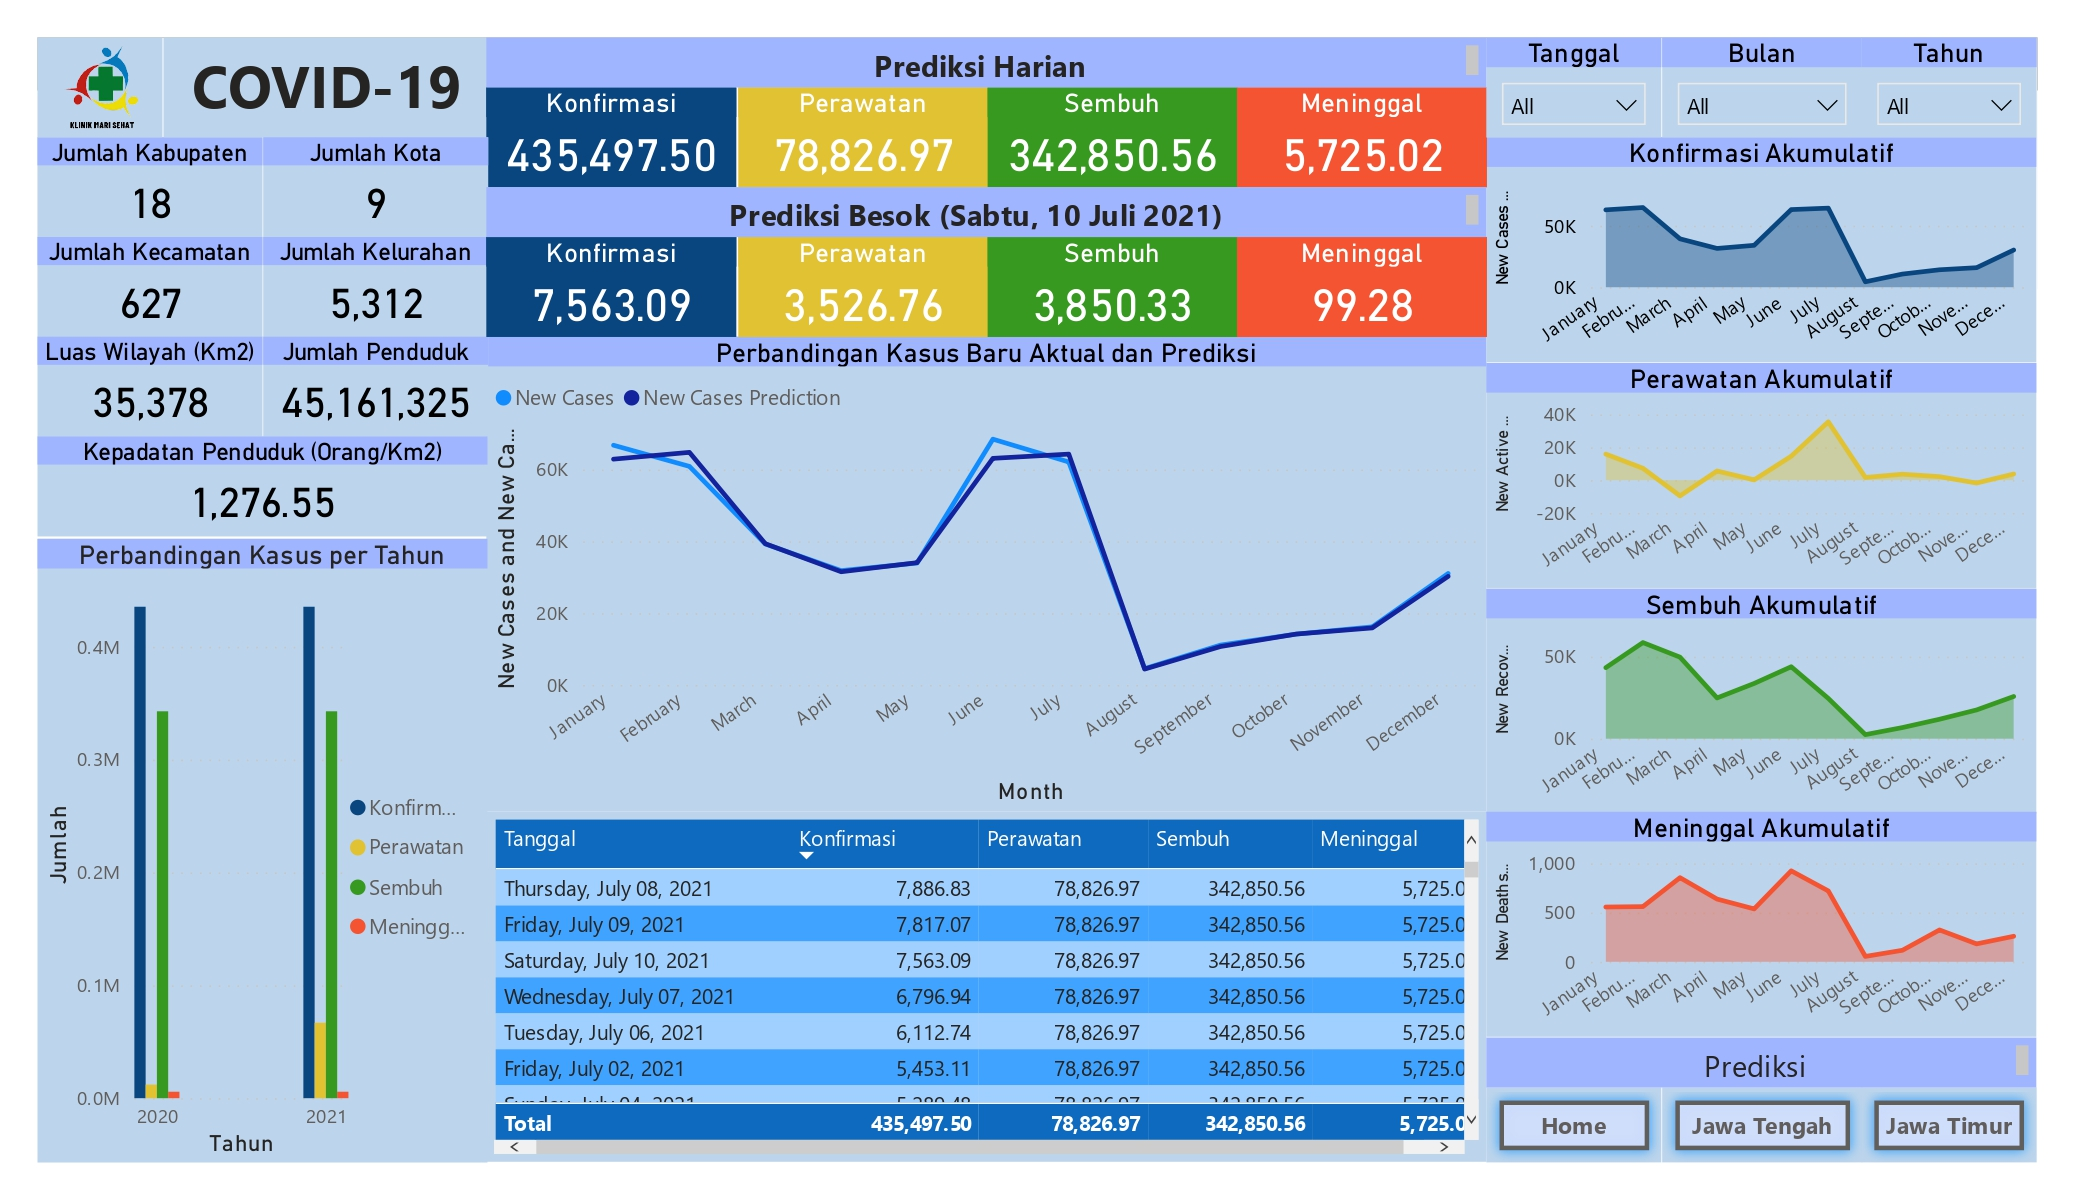

Layout of this report page (visuals, bound fields, positions):
{"tool":"powerbi","page":{"name":"Prediksi Jawa Barat","canvas":[1280,720],"ordinal":1},"visuals":[{"type":"card","title":"Jumlah Kabupaten","fields":{"Values":["Sum(KependudukanJabar.Total Regencies)"]},"box":[0,64,144,64],"z":0},{"type":"lineChart","title":"Perbandingan Kasus Baru  Aktual dan Prediksi","fields":{"Y":["Sum(NewCases_Jabar.New Cases)","Sum(NewCases_Jabar.New Cases Prediction)"],"Category":["NewCases_Jabar.Date.1.Variation.Date Hierarchy.Month"]},"box":[288,192,640,304],"z":1000},{"type":"tableEx","title":"Deaths by Countries","fields":{"Values":["NewCases.Date.1","Sum(NewCases.New Cases Prediction)","Sum(NewActiveCases.New Active Cases Prediction)","Sum(NewRecovered.New Recovered Prediction)","Sum(NewDeaths.New Deaths Prediction)"]},"box":[288,496,640,224],"z":2000},{"type":"areaChart","title":"Konfirmasi Akumulatif","fields":{"Category":["NewCases.Date.1.Variation.Date Hierarchy.Month"],"Y":["Sum(NewCases.New Cases Prediction)"]},"box":[928,64,352,144],"z":3000},{"type":"card","title":"Perawatan","fields":{"Values":["Sum(NewActiveCases.New Active Cases Prediction)"]},"box":[448,32,160,64],"z":4000},{"type":"card","title":"Sembuh","fields":{"Values":["Sum(NewRecovered.New Recovered Prediction)"]},"box":[608,32,160,64],"z":5000},{"type":"card","title":"Meninggal","fields":{"Values":["Sum(NewDeaths.New Deaths Prediction)"]},"box":[768,32,160,64],"z":6000},{"type":"image","box":[0,0,80,64],"z":7000},{"type":"slicer","title":"Bulan","fields":{"Values":["MariSehat_Clean.Month Name"]},"box":[1040,0,128,64],"z":8000},{"type":"slicer","title":"Tanggal","fields":{"Values":["MariSehat_Clean.Day"]},"box":[928,0,112,64],"z":9000},{"type":"slicer","title":"Tahun","fields":{"Values":["MariSehat_Clean.Year"]},"box":[1168,0,112,64],"z":10000},{"type":"textbox","box":[80,0,208,64],"z":11000},{"type":"areaChart","title":"Perawatan Akumulatif","fields":{"Category":["NewActiveCases_Jabar.Date.1.Variation.Date Hierarchy.Month"],"Y":["Sum(NewActiveCases_Jabar.New Active Cases Prediction)"]},"box":[928,208,352,144],"z":12000},{"type":"stackedAreaChart","title":"Sembuh Akumulatif","fields":{"Category":["NewRecovered.Date.1.Variation.Date Hierarchy.Month"],"Y":["Sum(NewRecovered.New Recovered Prediction)"]},"box":[928,352,352,144],"z":13000},{"type":"stackedAreaChart","title":"Meninggal Akumulatif","fields":{"Category":["NewDeaths_Jabar.Date.1.Variation.Date Hierarchy.Month"],"Y":["Sum(NewDeaths_Jabar.New Deaths Prediction)"]},"box":[928,496,352,144],"z":14000},{"type":"actionButton","box":[928,672,112,48],"z":15000},{"type":"actionButton","box":[1040,672,128,48],"z":16000},{"type":"actionButton","box":[1168,672,112,48],"z":17000},{"type":"textbox","box":[928,640,352,32],"z":18000},{"type":"card","title":"Konfirmasi","fields":{"Values":["Sum(NewCases.New Cases Prediction)"]},"box":[288,32,160,64],"z":19000},{"type":"card","title":"Jumlah                                                                      Kota","fields":{"Values":["Sum(KependudukanJabar.Total Cities)"]},"box":[144,64,144,64],"z":20000},{"type":"card","title":"Jumlah Kecamatan","fields":{"Values":["Sum(KependudukanJabar.Total Districts)"]},"box":[0,128,144,64],"z":21000},{"type":"card","title":"Jumlah Kelurahan","fields":{"Values":["Sum(KependudukanJabar.Total Rural Villages)"]},"box":[144,128,144,64],"z":22000},{"type":"card","title":"Luas Wilayah (Km2)","fields":{"Values":["Sum(KependudukanJabar.Area (km2))"]},"box":[0,192,144,64],"z":23000},{"type":"card","title":"Jumlah Penduduk","fields":{"Values":["Sum(KependudukanJabar.Population)"]},"box":[144,192,144,64],"z":24000},{"type":"card","title":"Kepadatan Penduduk (Orang/Km2)","fields":{"Values":["Sum(KependudukanJabar.Population Density)"]},"box":[0,256,288,64],"z":25000},{"type":"card","title":"Konfirmasi","fields":{"Values":["Sum(NewCases_Jabar.Tomorrow Prediction)"]},"box":[288,128,160,64],"z":26000},{"type":"card","title":"Perawatan","fields":{"Values":["Sum(NewActiveCases_Jabar.Tomorrow Prediction)"]},"box":[448,128,160,64],"z":27000},{"type":"card","title":"Sembuh","fields":{"Values":["Sum(NewRecovered_Jabar.Tomorrow Prediction)"]},"box":[608,128,160,64],"z":28000},{"type":"card","title":"Meninggal","fields":{"Values":["Sum(NewDeaths_Jabar.Tomorrow Prediction)"]},"box":[768,128,160,64],"z":29000},{"type":"textbox","box":[288,0,640,32],"z":30000},{"type":"textbox","box":[288,96,640,32],"z":31000},{"type":"clusteredColumnChart","title":"Perbandingan Kasus per Tahun","fields":{"Category":["NewActiveCases_Jabar.Date.1.Variation.Date Hierarchy.Year"],"Y":["Sum(NewCases_Jabar.New Cases Prediction)","Sum(NewActiveCases_Jabar.New Active Cases Prediction)","Sum(NewRecovered_Jabar.New Recovered Prediction)","Sum(NewDeaths_Jabar.New Deaths Prediction)"]},"box":[0,320,288,400],"z":32000}]}

Visuals, with their boxes on the page's 1280x720 design canvas (x1, y1, x2, y2). These are canvas units, not pixel positions in the 2075x1200 screenshot, which may show the page scaled, cropped or inside an application window:
"Jumlah Kabupaten" card: select_region(0, 64, 144, 128)
"Perbandingan Kasus Baru  Aktual dan Prediksi" lineChart: select_region(288, 192, 928, 496)
"Deaths by Countries" tableEx: select_region(288, 496, 928, 720)
"Konfirmasi Akumulatif" areaChart: select_region(928, 64, 1280, 208)
"Perawatan" card: select_region(448, 32, 608, 96)
"Sembuh" card: select_region(608, 32, 768, 96)
"Meninggal" card: select_region(768, 32, 928, 96)
image: select_region(0, 0, 80, 64)
"Bulan" slicer: select_region(1040, 0, 1168, 64)
"Tanggal" slicer: select_region(928, 0, 1040, 64)
"Tahun" slicer: select_region(1168, 0, 1280, 64)
textbox: select_region(80, 0, 288, 64)
"Perawatan Akumulatif" areaChart: select_region(928, 208, 1280, 352)
"Sembuh Akumulatif" stackedAreaChart: select_region(928, 352, 1280, 496)
"Meninggal Akumulatif" stackedAreaChart: select_region(928, 496, 1280, 640)
actionButton: select_region(928, 672, 1040, 720)
actionButton: select_region(1040, 672, 1168, 720)
actionButton: select_region(1168, 672, 1280, 720)
textbox: select_region(928, 640, 1280, 672)
"Konfirmasi" card: select_region(288, 32, 448, 96)
"Jumlah                                                                      Kota" card: select_region(144, 64, 288, 128)
"Jumlah Kecamatan" card: select_region(0, 128, 144, 192)
"Jumlah Kelurahan" card: select_region(144, 128, 288, 192)
"Luas Wilayah (Km2)" card: select_region(0, 192, 144, 256)
"Jumlah Penduduk" card: select_region(144, 192, 288, 256)
"Kepadatan Penduduk (Orang/Km2)" card: select_region(0, 256, 288, 320)
"Konfirmasi" card: select_region(288, 128, 448, 192)
"Perawatan" card: select_region(448, 128, 608, 192)
"Sembuh" card: select_region(608, 128, 768, 192)
"Meninggal" card: select_region(768, 128, 928, 192)
textbox: select_region(288, 0, 928, 32)
textbox: select_region(288, 96, 928, 128)
"Perbandingan Kasus per Tahun" clusteredColumnChart: select_region(0, 320, 288, 720)
